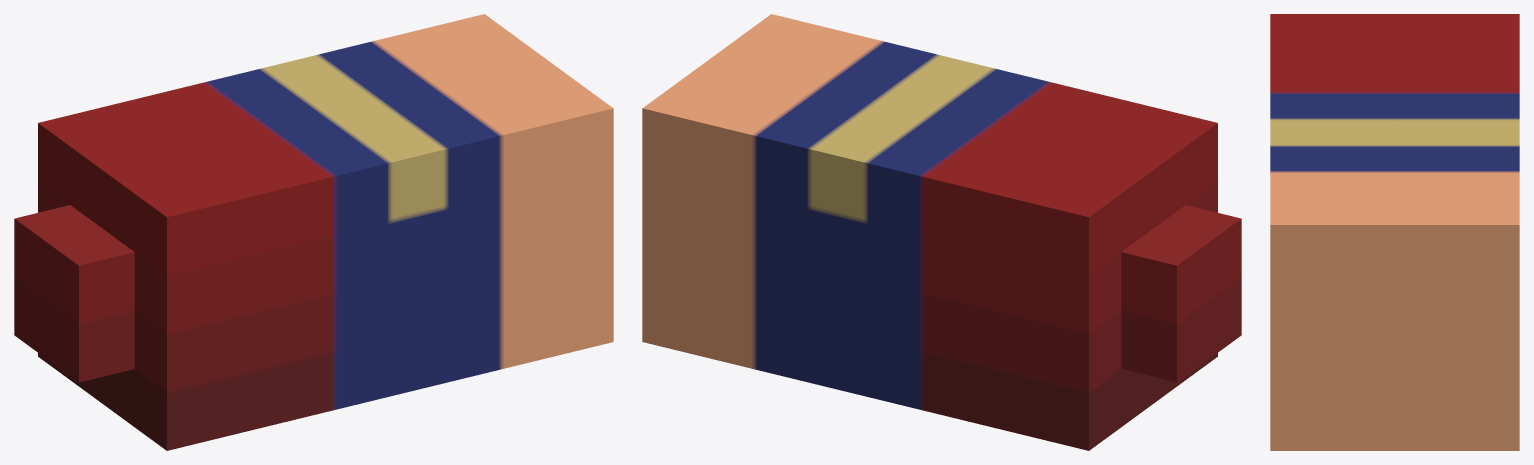
The model's file is Elbow068.fbx.
3 views of the same model, side by side, from view 1: azimuth 30°, elevation 25°; view 2: azimuth 150°, elevation 25°; view 3: azimuth 270°, elevation 25° (orthographic). The views are drawn at different scales.
Visible parts, largest first — view 1: Elbow068; view 2: Elbow068; view 3: Elbow068.
Boxes of the visible parts, x1=… form: Elbow068: x1=14, y1=14, x2=613, y2=450; Elbow068: x1=642, y1=14, x2=1241, y2=450; Elbow068: x1=1270, y1=14, x2=1519, y2=450.
Size of the model in its own units: 9 by 4 by 4.
